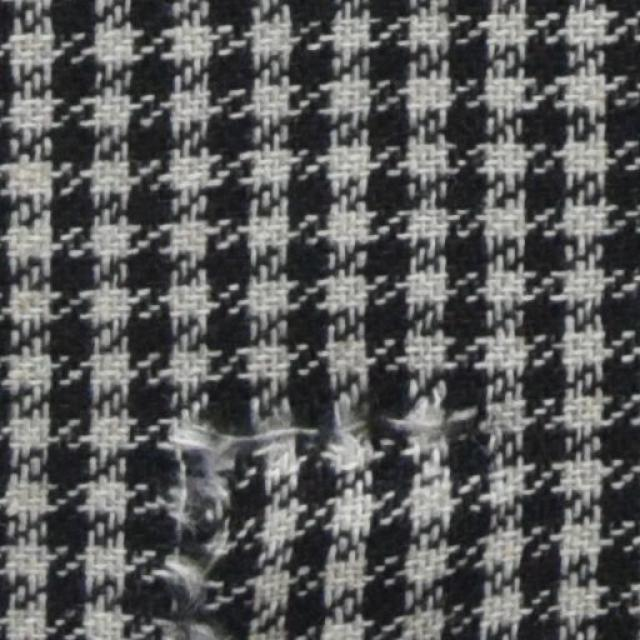Snag: (161, 380, 473, 639)
